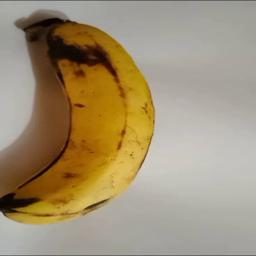Banana Semifresh: (1, 14, 159, 224)
